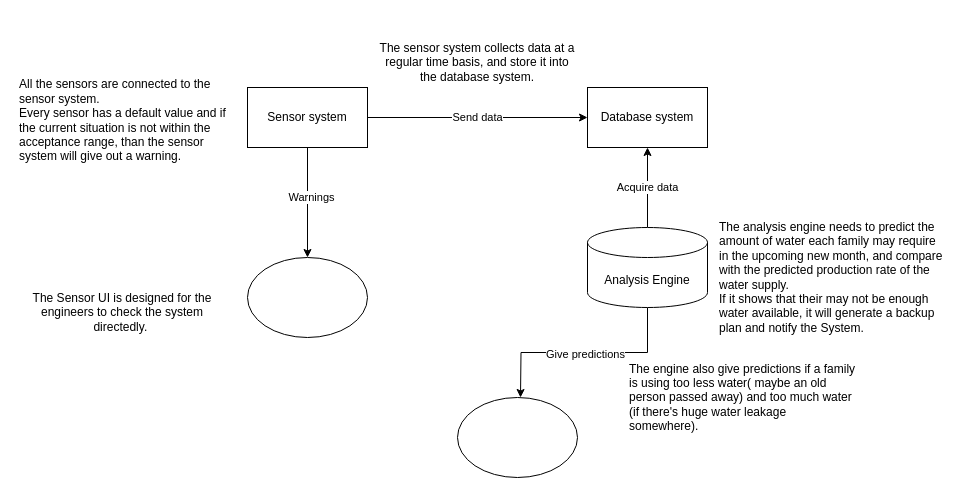
Some shapes in this 964 by 495 pixel diagram are drawn without their labels. The box of each missing label's shape, as (x1, y1, x2, y2) in pixels:
Sensor System UI: (246, 256, 368, 338)
System UI: (456, 396, 578, 478)
